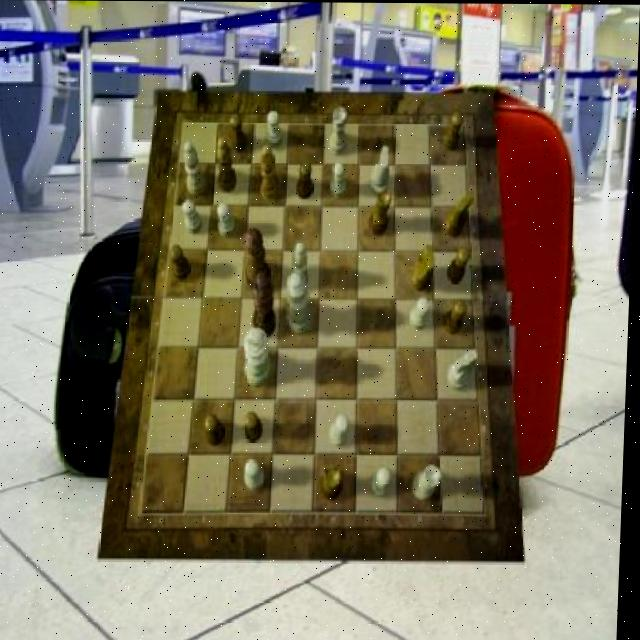bishop: (216, 137, 239, 191), (262, 143, 283, 199)
black-bishop: (253, 271, 280, 338)
black-king: (445, 192, 474, 238), (412, 244, 438, 290)
black-knight: (170, 246, 194, 282), (449, 247, 473, 283), (446, 298, 470, 333), (443, 110, 464, 150), (229, 114, 248, 154), (207, 414, 229, 446), (299, 161, 317, 198), (247, 411, 267, 442)
black-pawn: (243, 227, 274, 292)
black-queen: (370, 190, 395, 236), (323, 465, 347, 500)
black-rook: (184, 141, 208, 195), (292, 242, 312, 291)
white-bishop: (246, 327, 277, 388)
white-king: (450, 347, 481, 389), (371, 145, 393, 196)
white-knight: (184, 200, 206, 234), (412, 296, 434, 329), (218, 203, 238, 238), (249, 458, 270, 491), (331, 161, 348, 198), (268, 111, 285, 148), (333, 414, 352, 447), (375, 467, 395, 498)
white-pawn: (287, 271, 316, 334)
white-queen: (416, 464, 445, 499), (329, 108, 348, 156)
